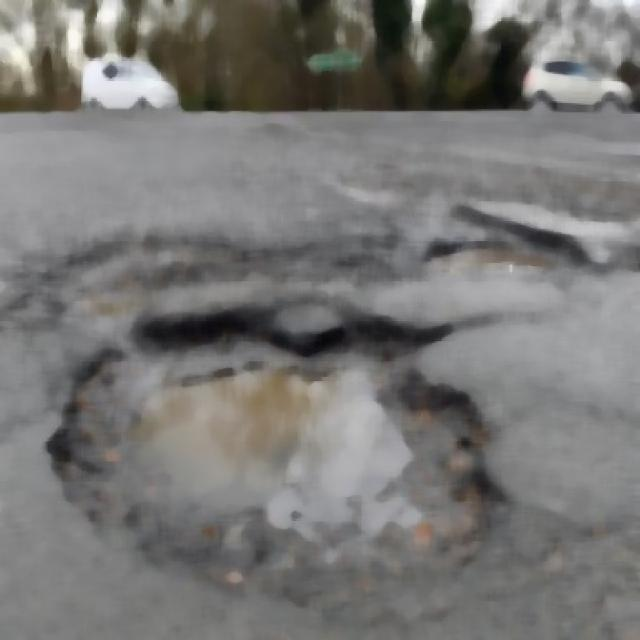Pothole: (84, 307, 445, 607)
